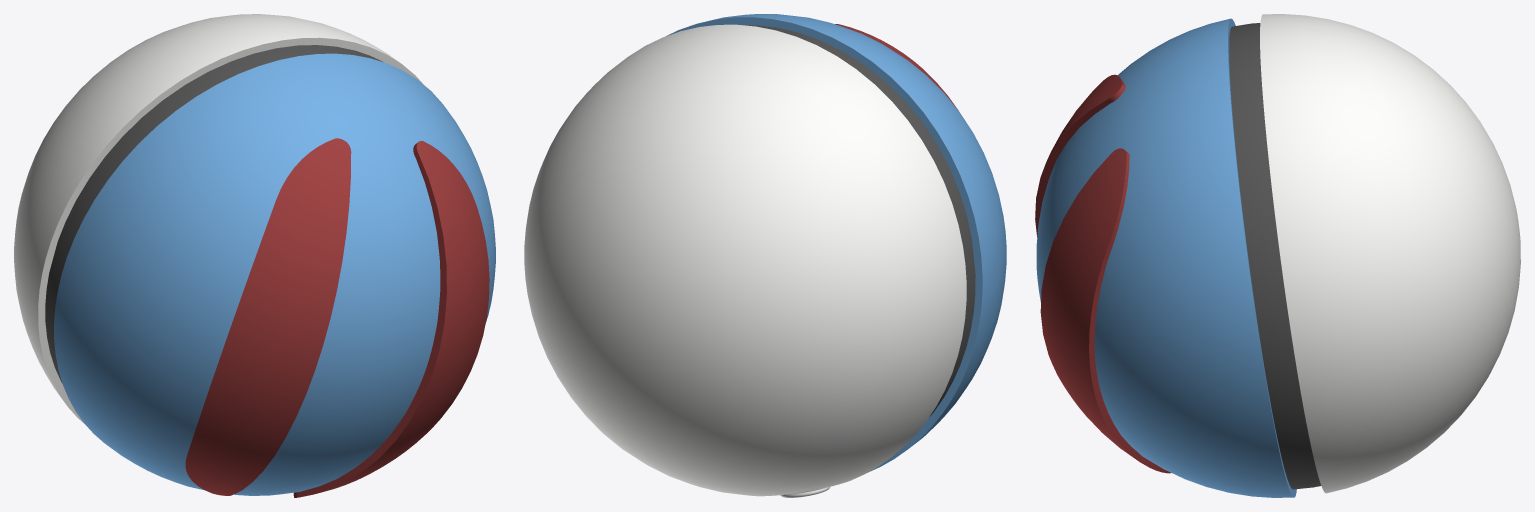
Rendered from greatball.glb.
3 views of the same model, side by side, from view 1: azimuth 30°, elevation 25°; view 2: azimuth 150°, elevation 25°; view 3: azimuth 270°, elevation 25° (orthographic).
Visible parts, largest first — view 1: Body1 (×3), Body2, Body3; view 2: Body2, Body1, Body3; view 3: Body2, Body1 (×3), Body3.
Part boxes in pixels (box(x1,y1,x2,y2)): Body1 (×3): box(54, 53, 495, 497); Body2: box(14, 14, 423, 423); Body3: box(45, 45, 383, 383); Body2: box(524, 24, 966, 496); Body1: box(666, 14, 1006, 472); Body3: box(745, 25, 975, 417); Body2: box(1260, 14, 1520, 493); Body1 (×3): box(1035, 18, 1296, 497); Body3: box(1229, 23, 1321, 489).
Size of the model in its own units: 0.14 by 0.1402 by 0.1407.
